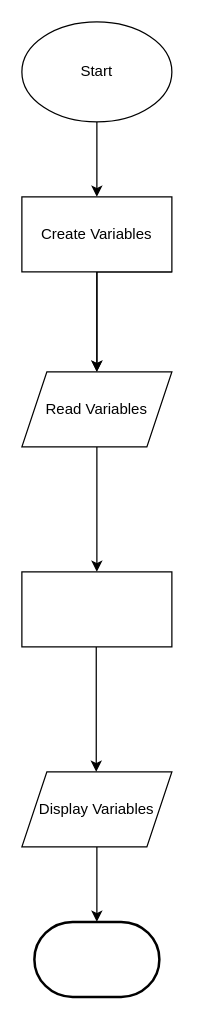
This 204x1020 diagram has some shape labels left out. The shapes that lost their labels are listed below. From the top down, each one's centre as x and y in pixels, then its label:
the point at 96,609: Sum Variables
the point at 96,959: Stop
